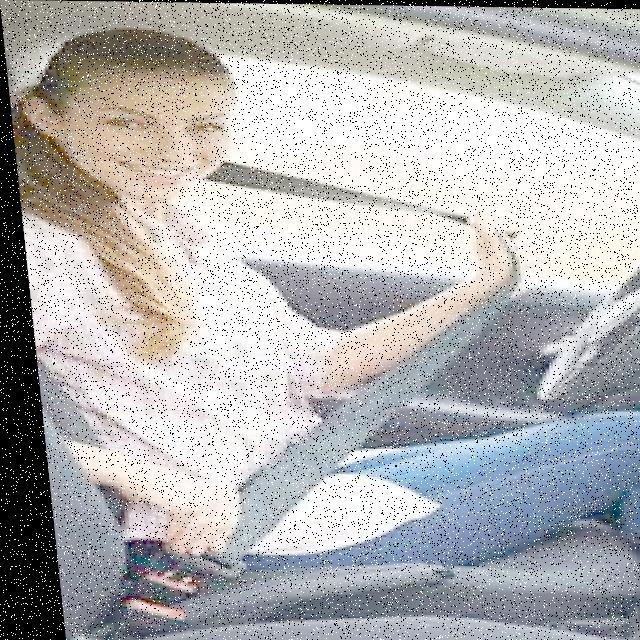seatbelt: (19, 180, 416, 614)
